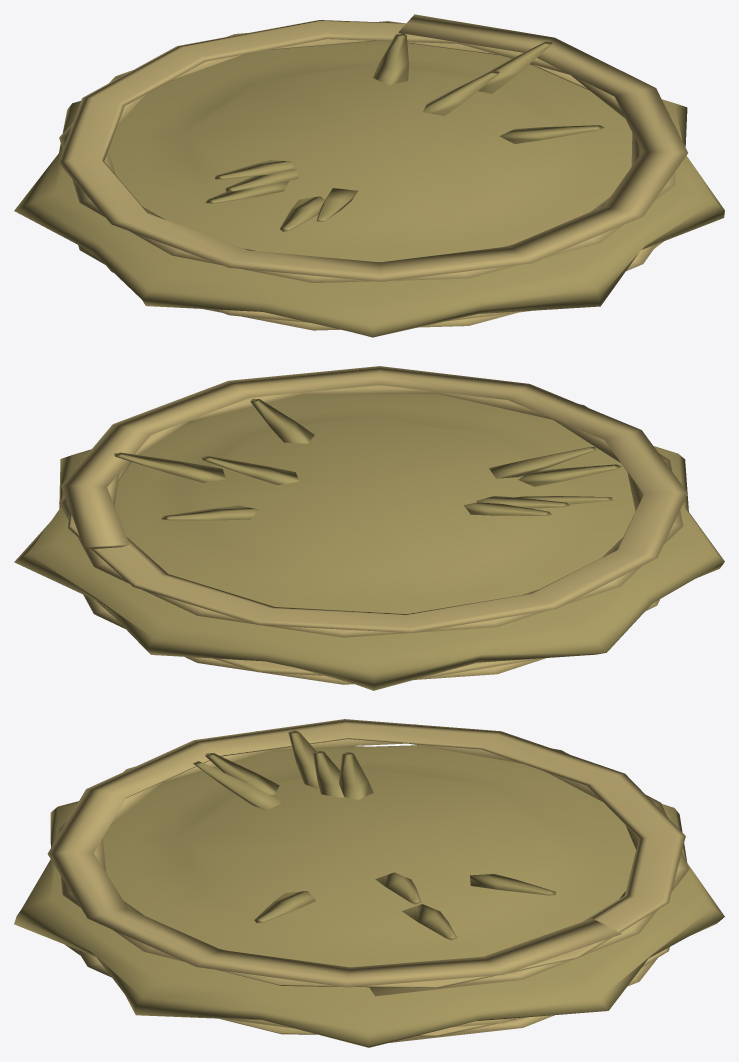
Rendered from torche_tete.glb.
The picture shows the model from 3 angles, top to bottom: view 1: azimuth 30°, elevation 25°; view 2: azimuth 150°, elevation 25°; view 3: azimuth 270°, elevation 25°; orthographic projection. The views are drawn at different scales.
Parts seen in each view (by area): view 1: Torche_tete; view 2: Torche_tete; view 3: Torche_tete.
Boxes of the visible parts, box(x1,y1,x2,y2) form: Torche_tete: box(14, 14, 724, 337); Torche_tete: box(14, 366, 724, 690); Torche_tete: box(14, 719, 724, 1047).
Bounding box in the file's own units: 2.5 × 0.3559 × 2.48.
